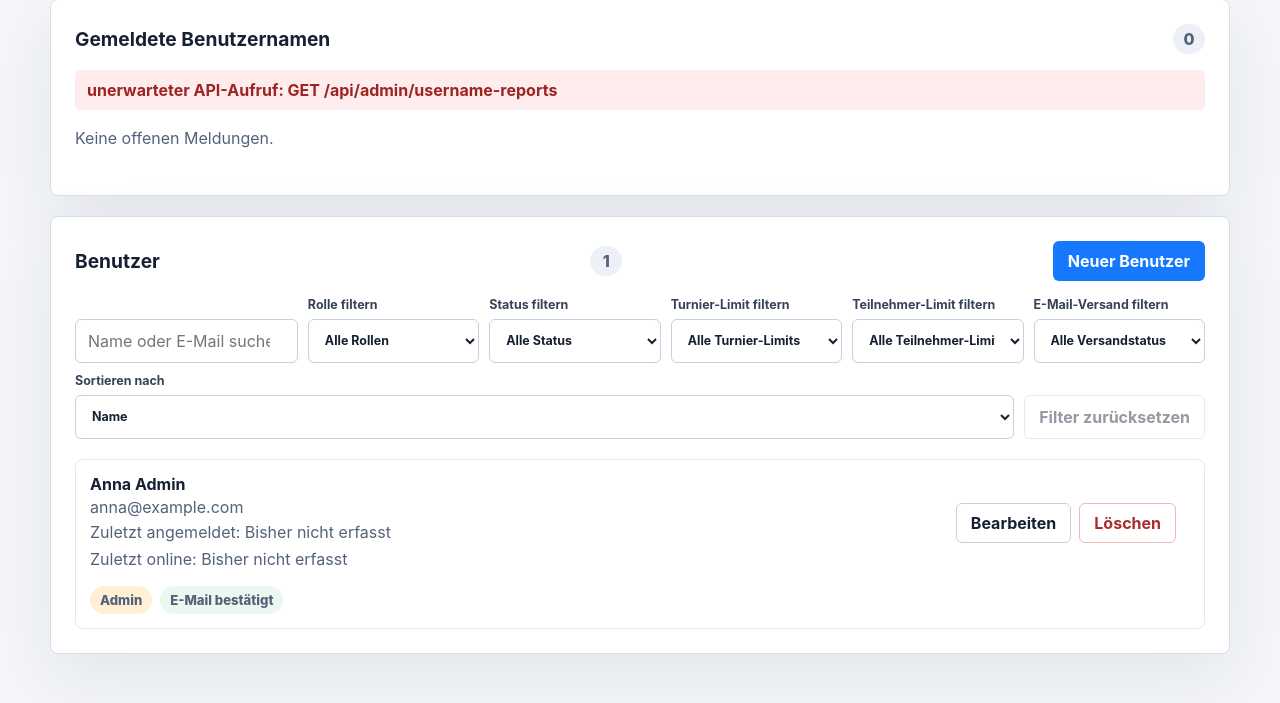
Test: Benutzer-Seite: Liste + Dialog › öffnet den Dialog vorausgefüllt bei Bearbeiten, Abbrechen schließt ohne Submit, Speichern speichert und schließt
Check: the text "Anna Admin" is shown, box [90,474,186,494]
Click the button "Bearbeiten": (1014, 523) [956,503,1071,543]
(page scrolled)
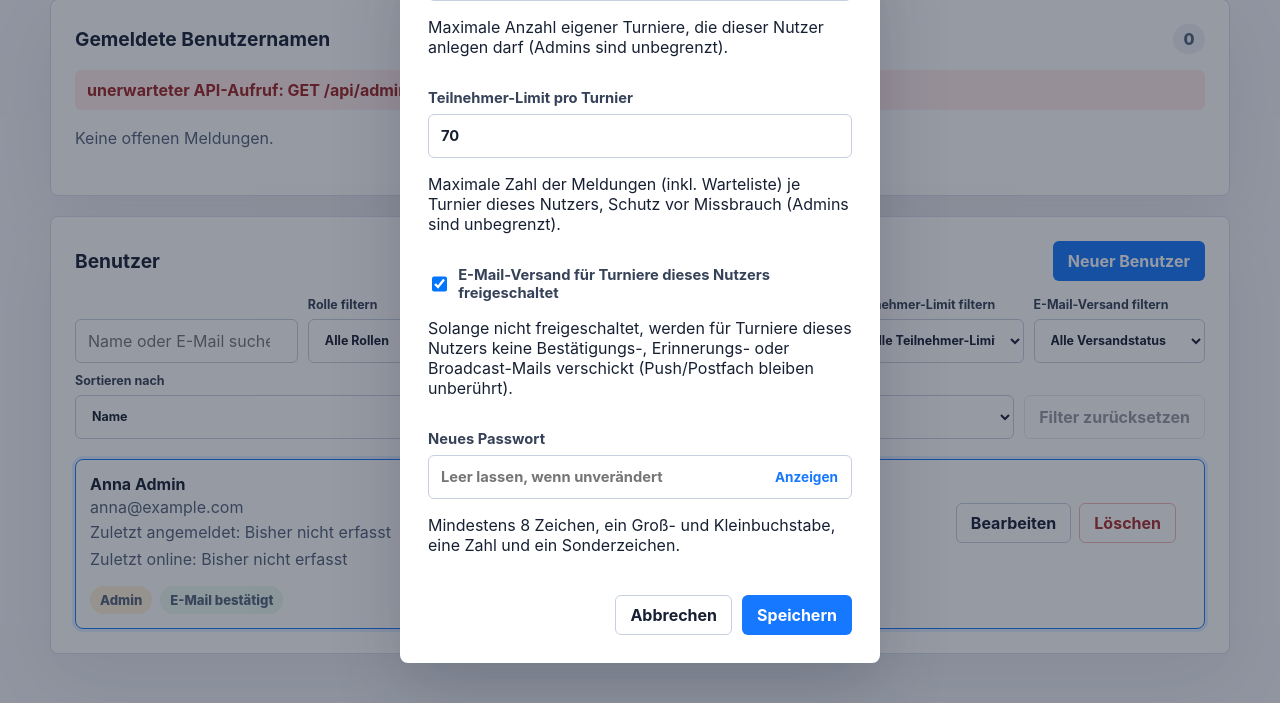
Click the button "Abbrechen": (674, 615) [615,595,732,635]
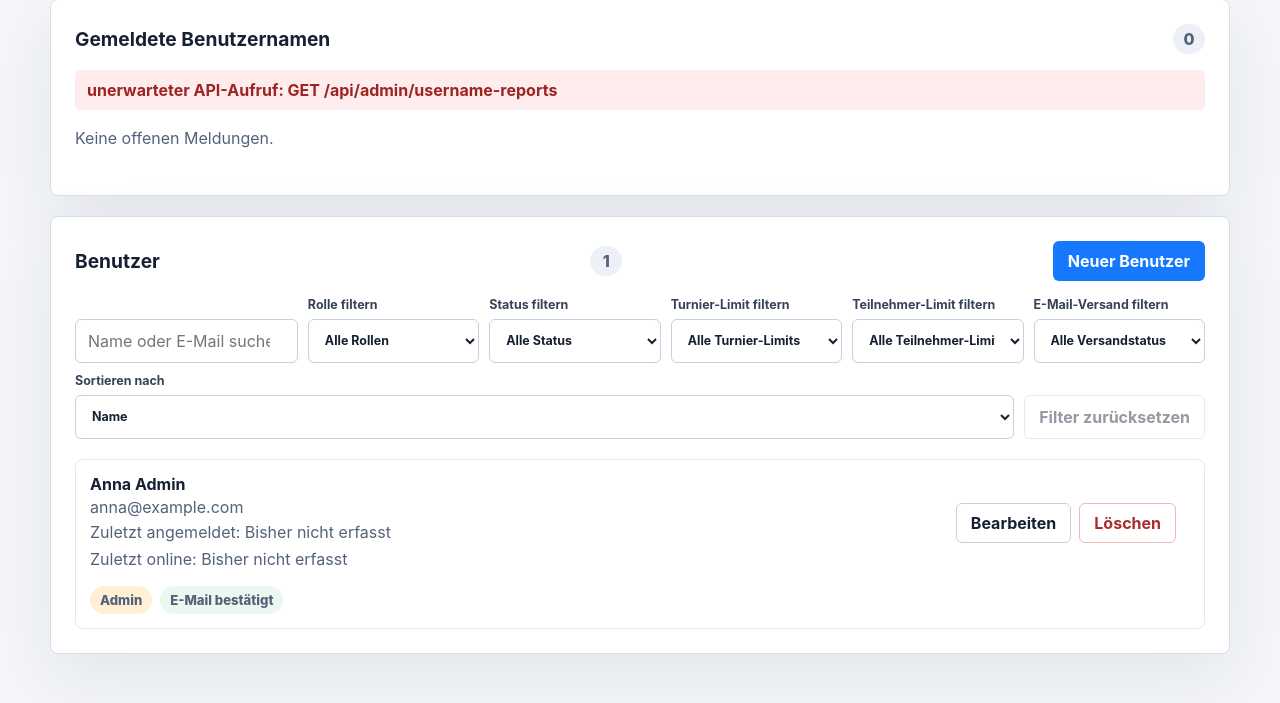
Click the button "Bearbeiten": (1014, 523) [956,503,1071,543]
(page scrolled)
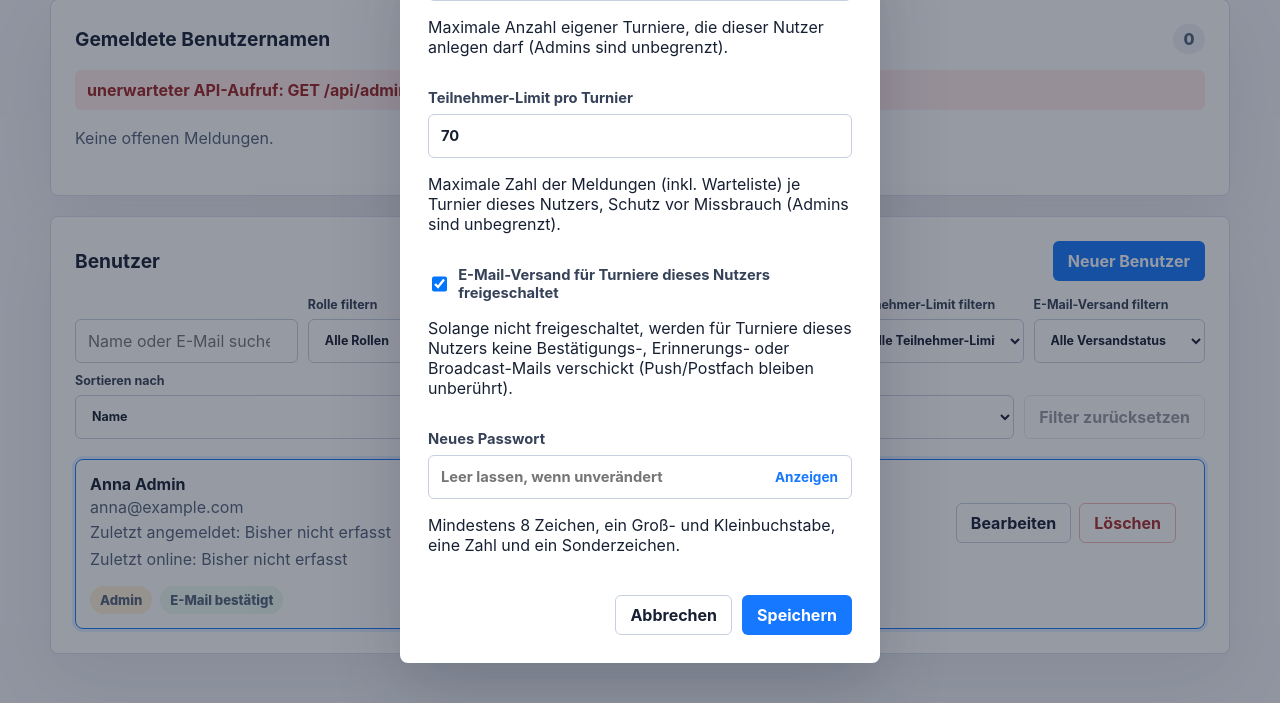
Click the button "Speichern": (797, 615) [742,595,852,635]
(page scrolled)
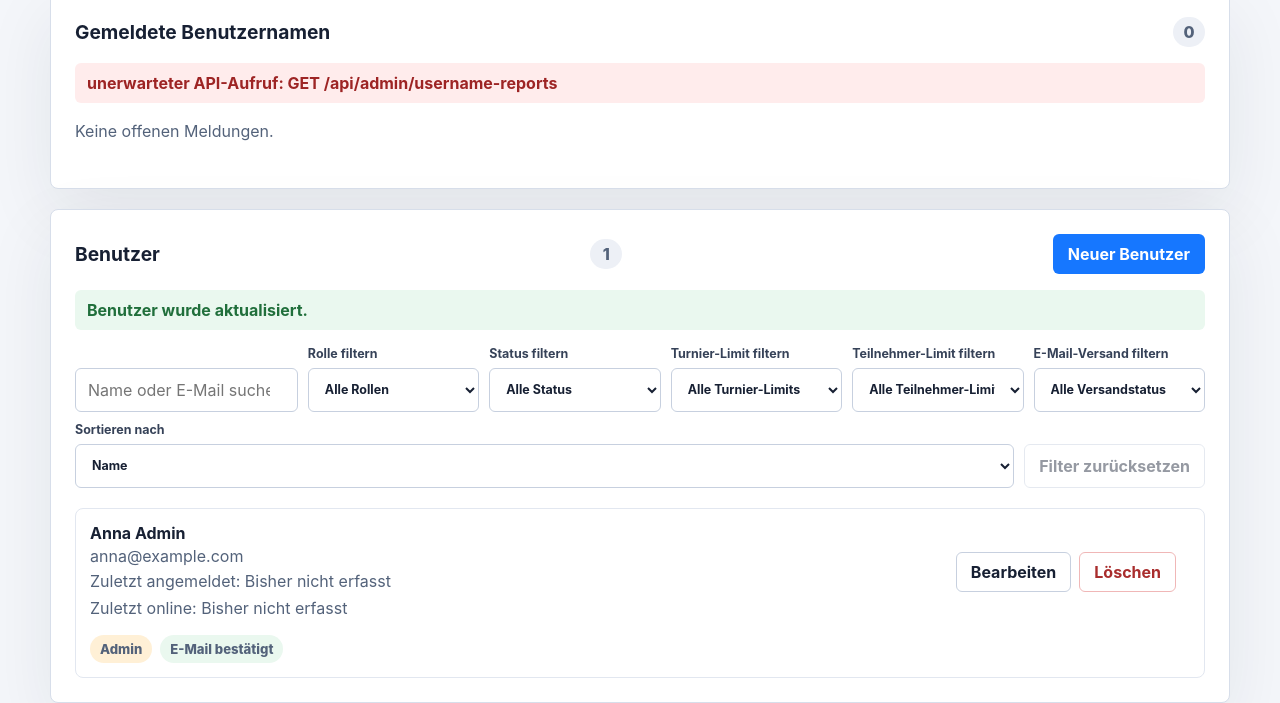
Check: the text "Benutzer wurde aktualisiert." is shown, box [75,290,1205,330]
